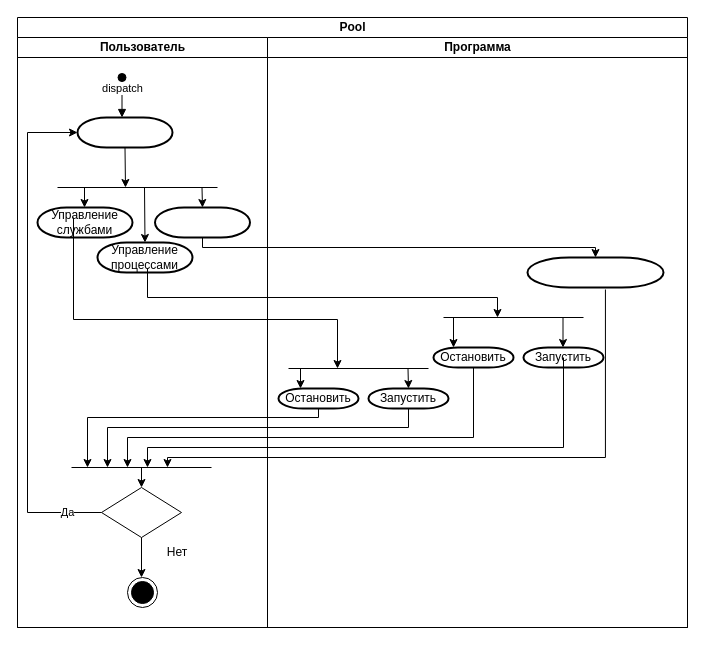
Some shapes in this 705 by 645 pixel diagram are drawn without their labels. Each missing label, with the box of its shape:
Выбрать действие: (76, 116, 173, 148)
Выдать состояние системы: (526, 256, 664, 288)
Мониторинг: (154, 206, 250, 238)
Продолжить?: (100, 486, 182, 538)
